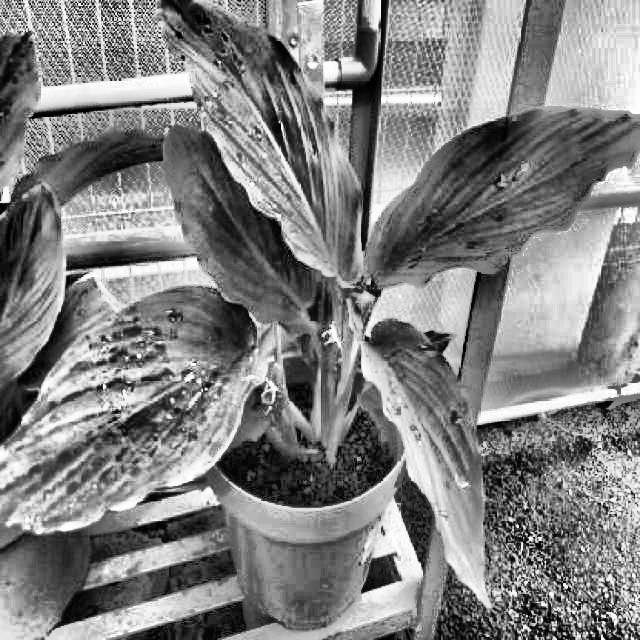plants: (12, 4, 640, 607)
